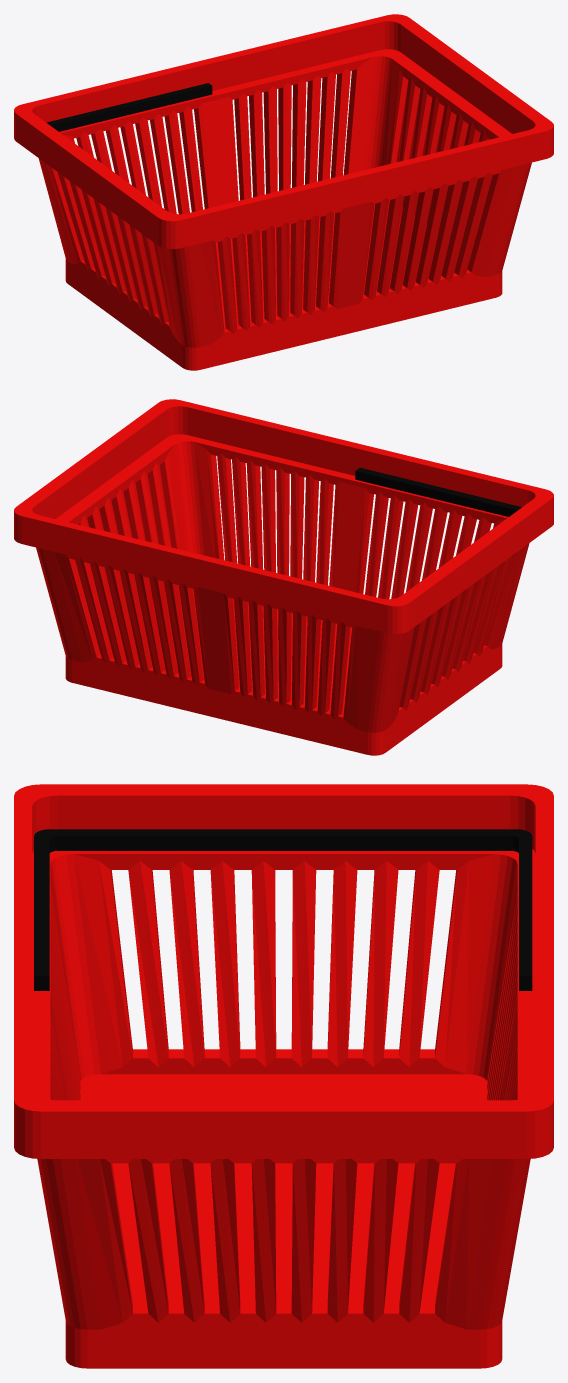
Rendered from basket.fbx.
3 views of the same model, one above another, from view 1: azimuth 30°, elevation 25°; view 2: azimuth 150°, elevation 25°; view 3: azimuth 270°, elevation 25° (orthographic). The views are drawn at different scales.
Parts seen in each view (by area): view 1: basket, Handle; view 2: basket, Handle; view 3: basket, Handle.
Part boxes in pixels (left/top/right/bottom): basket: left=14, top=14, right=553, bottom=370; Handle: left=46, top=83, right=212, bottom=131; basket: left=14, top=399, right=553, bottom=755; Handle: left=355, top=467, right=521, bottom=516; basket: left=14, top=784, right=553, bottom=1368; Handle: left=34, top=829, right=532, bottom=990.
Size of the model in its own units: 0.5319 by 0.2186 by 0.3711.
